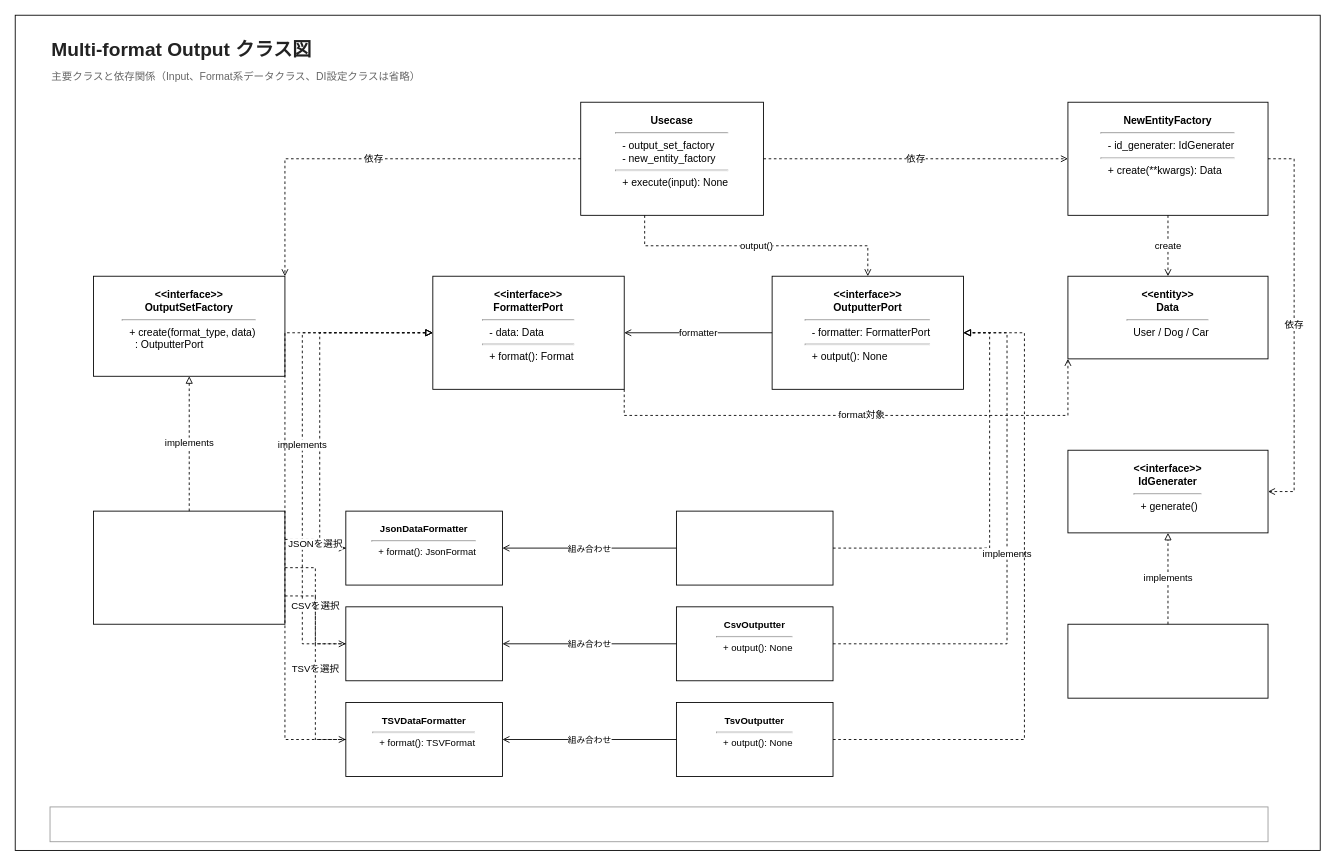
Image size: 1335x866. Some labels were removed from this diagram. Each missing label, with the centre of its shape:
CSVDataFormatter + format(): CSVFormat: the point at 423,643
ImpleOutputSetFactory - dependencies + create(format_type, data) : OutputterPort: the point at 189,567
JsonOutputter + output(): None: the point at 754,547
UuidIdGenerater + generate(): UUID: the point at 1167,660
凡例 破線＋白三角: implements 破線＋開矢印: 依存 実線: 保持・組み合わせ: the point at 658,824
